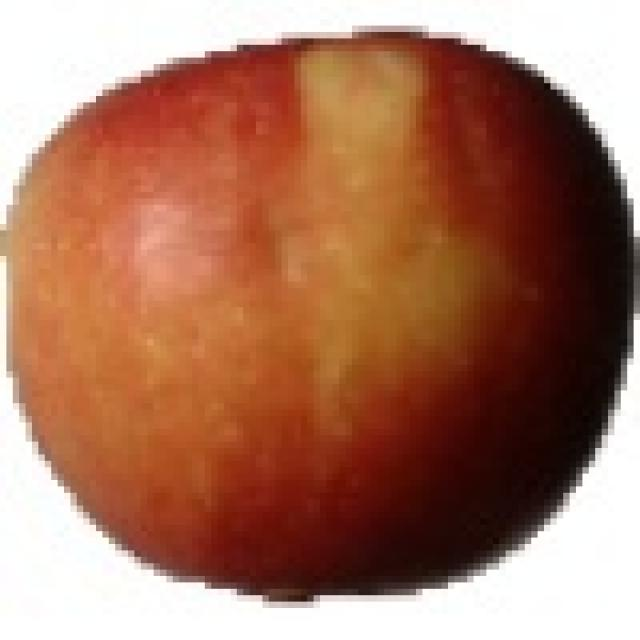apple: (6, 31, 622, 605)
